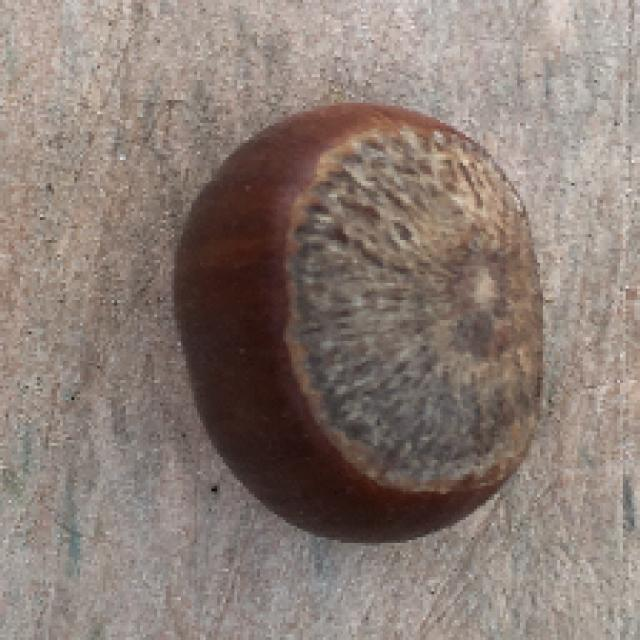DamagedHazelnut: (174, 103, 549, 546)
